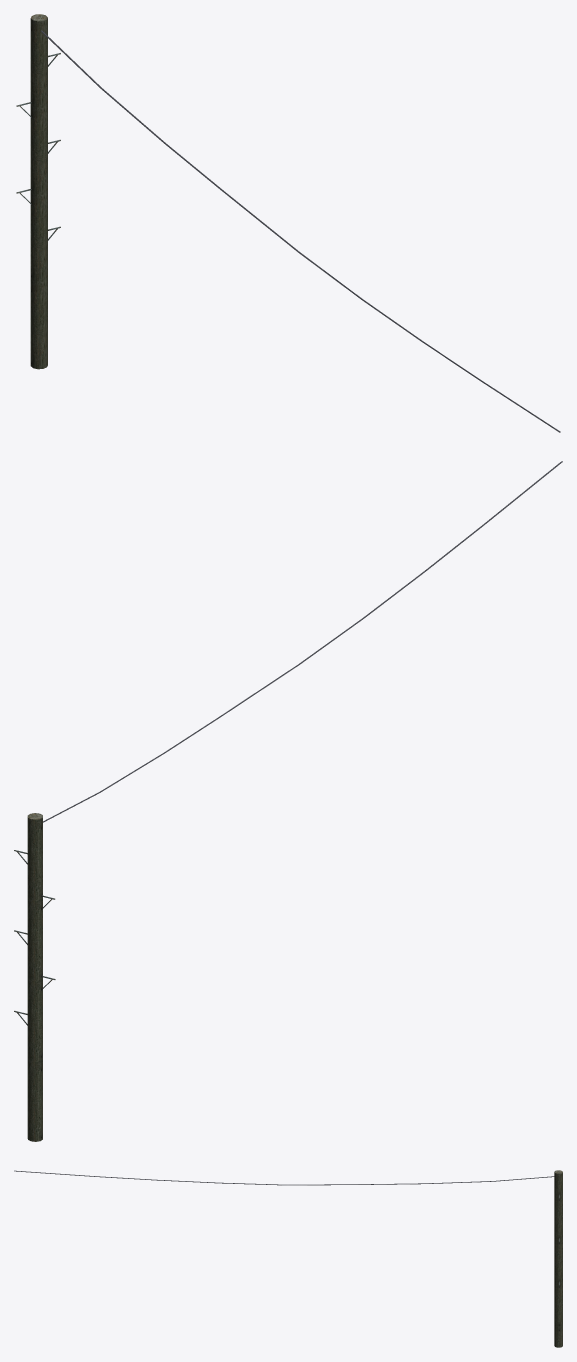
The model's file is Sun_0003_Telegraph_Pole.fbx.
3 views of the same model, one above another, from view 1: azimuth 30°, elevation 25°; view 2: azimuth 150°, elevation 25°; view 3: azimuth 270°, elevation 25° (orthographic). The views are drawn at different scales.
Visible parts, largest first — view 1: Sun_0003_Telegraph_Pole; view 2: Sun_0003_Telegraph_Pole; view 3: Sun_0003_Telegraph_Pole.
Boxes of the visible parts, box(x1,y1,x2,y2) form: Sun_0003_Telegraph_Pole: box(16, 14, 560, 432); Sun_0003_Telegraph_Pole: box(14, 461, 562, 1141); Sun_0003_Telegraph_Pole: box(14, 1170, 562, 1347).
Size of the model in its own units: 88.02 by 620 by 1774.
